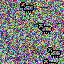sheep: (38, 23, 52, 35), (47, 47, 61, 59), (20, 2, 34, 13), (43, 59, 59, 64)
